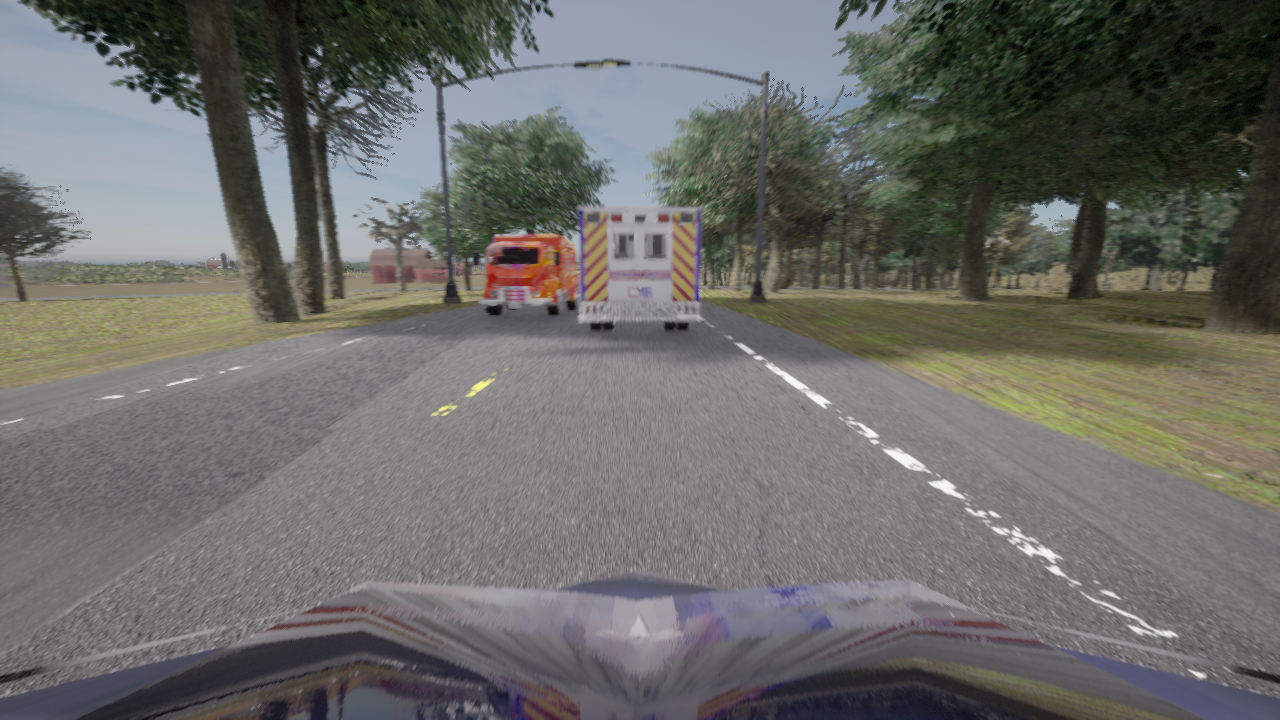cyclist: (0, 569, 1279, 719), (578, 206, 701, 330), (472, 234, 579, 315)
